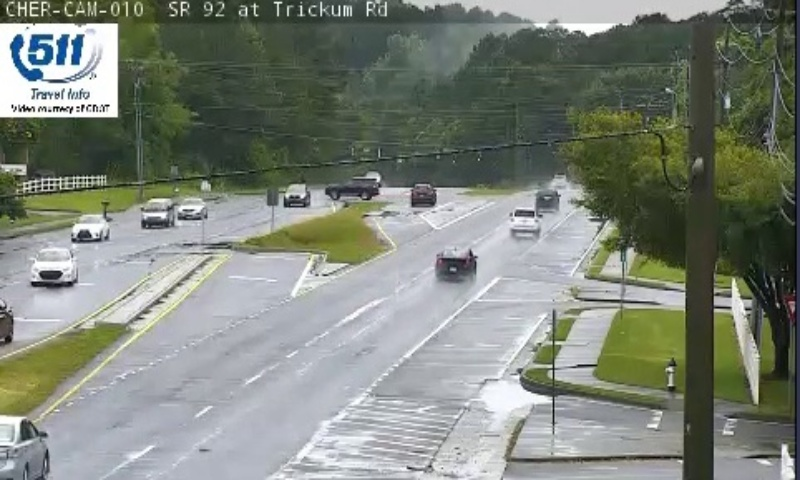car: (434, 247, 474, 281), (509, 207, 541, 234), (534, 189, 559, 209)
